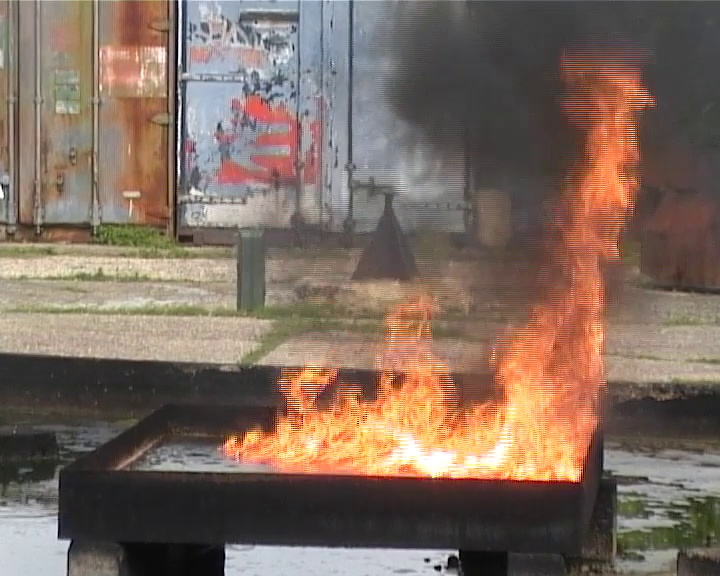fire: (223, 63, 642, 480)
